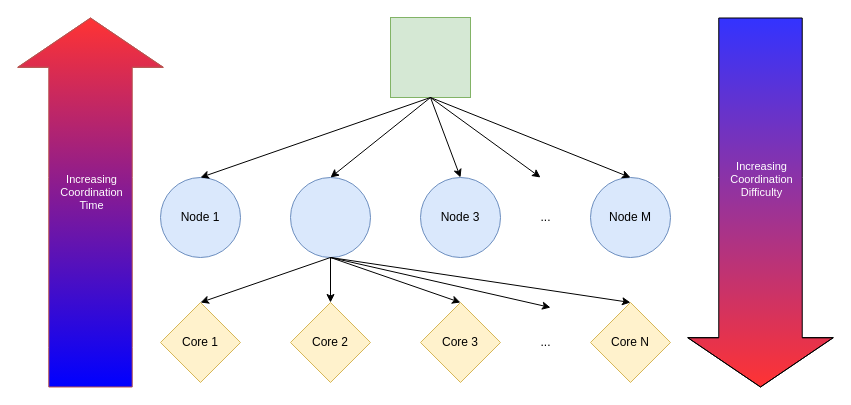
Some shapes in this 851 by 405 pixel diagram are drawn without their labels. The shapes that lost their labels are listed below. From the top down, each one's box as (x1, y1, x2, y2) in pixels, then its label:
(390, 16, 470, 98): Job
(290, 176, 370, 258): Node 2
